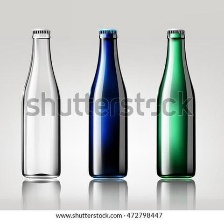bottle: (16, 25, 67, 183), (154, 27, 197, 181), (86, 27, 128, 181)
